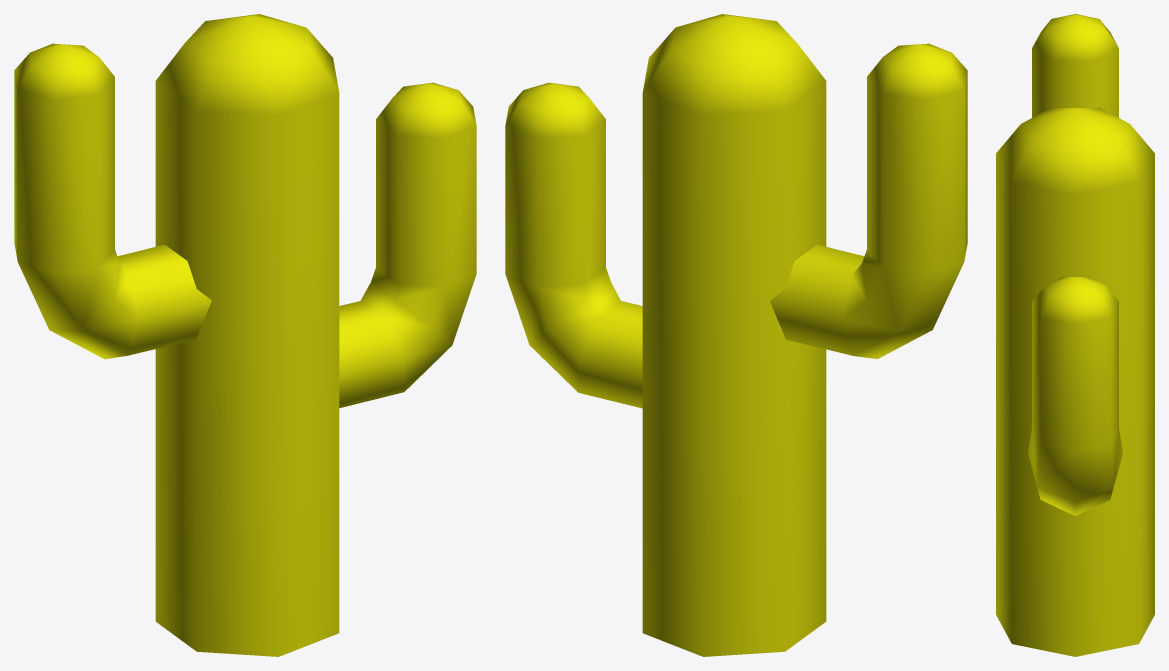
3 views of the same model, side by side, from view 1: azimuth 30°, elevation 25°; view 2: azimuth 150°, elevation 25°; view 3: azimuth 270°, elevation 25° (orthographic). The views are drawn at different scales.
Parts seen in each view (by area): view 1: tree_1; view 2: tree_1; view 3: tree_1.
Boxes of the visible parts, box(x1,y1,x2,y2) form: tree_1: box(14, 14, 476, 656); tree_1: box(505, 14, 967, 656); tree_1: box(996, 14, 1154, 656).
Bounding box in the file's own units: 2.61 × 3.4 × 0.9232.
Materials: 1 (1 with a texture image).
